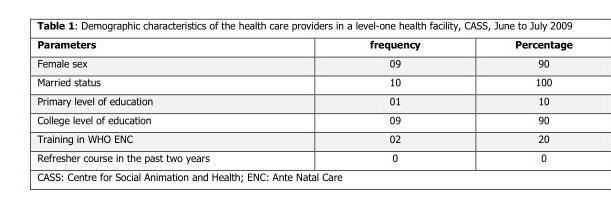table: (36, 37, 571, 163)
table column: (36, 37, 288, 163), (288, 37, 466, 163), (466, 37, 571, 163)
table column header: (36, 37, 571, 52)
table row: (36, 52, 571, 71), (36, 71, 571, 90), (36, 90, 571, 109), (36, 109, 571, 128), (36, 128, 571, 147), (36, 147, 571, 163), (36, 37, 571, 52)
